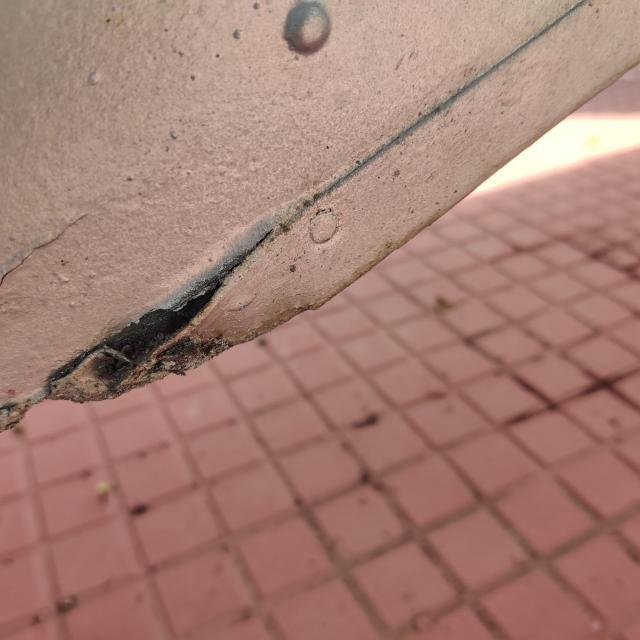Crack: (68, 221, 272, 402)
